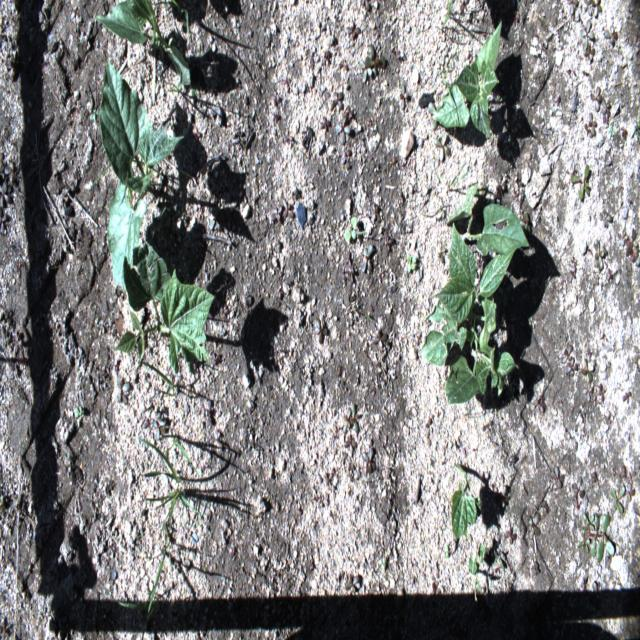crop: (100, 57, 186, 291), (419, 227, 514, 400), (114, 240, 214, 376), (94, 0, 194, 94), (432, 21, 502, 140), (446, 178, 532, 258), (451, 464, 483, 542)
weed: (137, 433, 203, 536), (117, 538, 170, 635), (162, 429, 201, 476), (577, 513, 611, 564), (467, 542, 494, 598), (141, 359, 178, 396), (615, 228, 638, 264), (570, 163, 589, 201), (169, 0, 190, 32), (341, 255, 358, 294), (314, 313, 335, 340), (344, 215, 363, 244), (367, 45, 388, 71), (364, 240, 379, 275), (562, 346, 578, 378), (335, 115, 352, 143), (359, 53, 374, 83), (436, 133, 452, 161), (580, 20, 594, 52), (371, 326, 389, 348), (611, 486, 624, 516), (396, 82, 409, 110), (581, 1, 602, 18), (593, 382, 607, 407), (585, 110, 597, 139), (442, 0, 456, 24), (341, 403, 352, 433), (592, 242, 604, 269), (605, 23, 617, 47), (370, 201, 382, 223), (340, 143, 352, 164), (269, 205, 282, 224), (591, 86, 603, 106), (283, 198, 294, 219), (344, 436, 356, 455), (621, 388, 633, 404), (345, 23, 361, 35), (407, 253, 417, 272), (334, 90, 344, 109), (568, 0, 578, 17), (321, 113, 331, 129)
